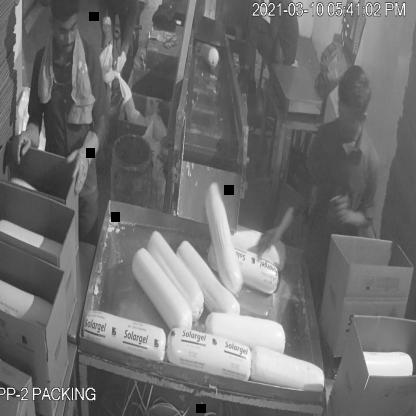glove: (63, 124, 108, 211), (6, 105, 45, 171)
no_glove: (242, 188, 314, 267), (330, 192, 374, 245)
